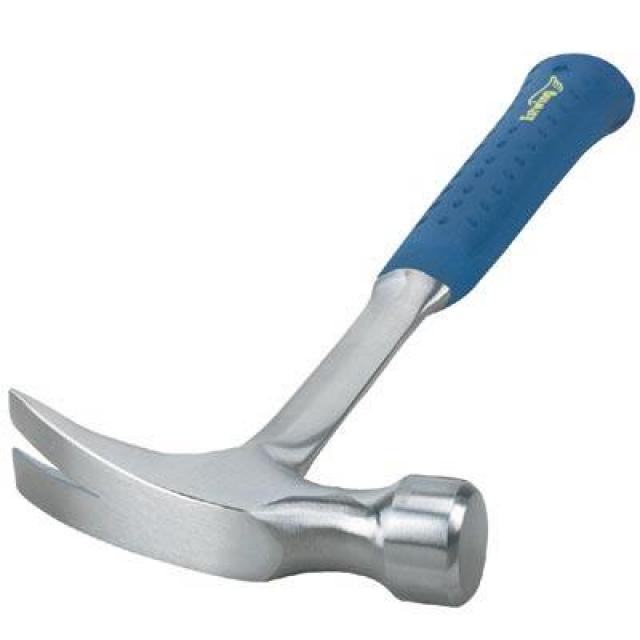hammer: (1, 44, 640, 623)
